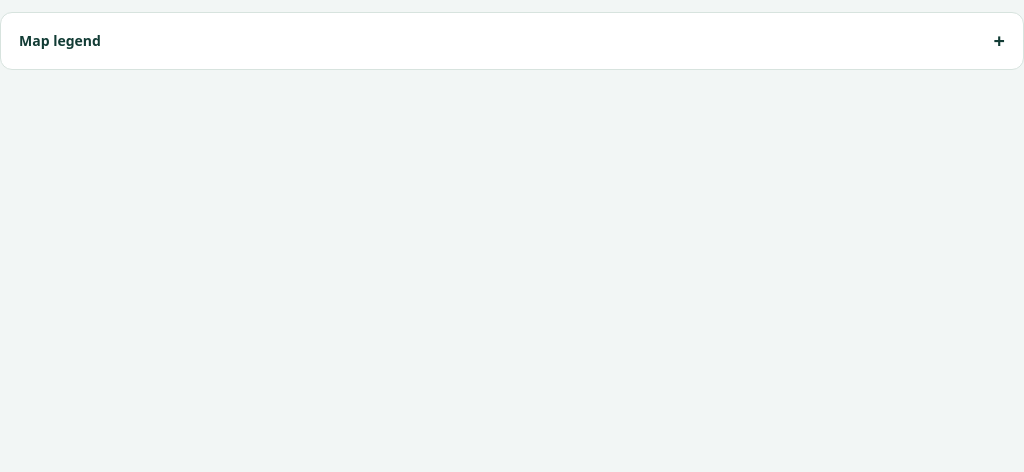
commuter widgets › legend explains colors and occupancy in words
Click the heading "Map legend". click: (60, 40)
box: [19,31,101,50]
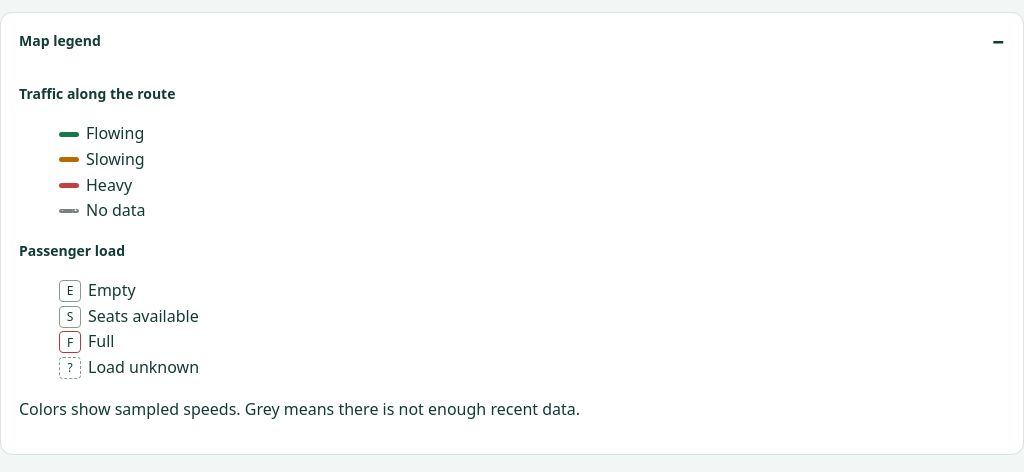
Expected: the list item "Flowing" is shown, [59,122,144,144]
Expected: the list item "Slowing" is shown, [59,148,145,170]
Expected: the list item "Heavy" is shown, [59,174,132,196]
